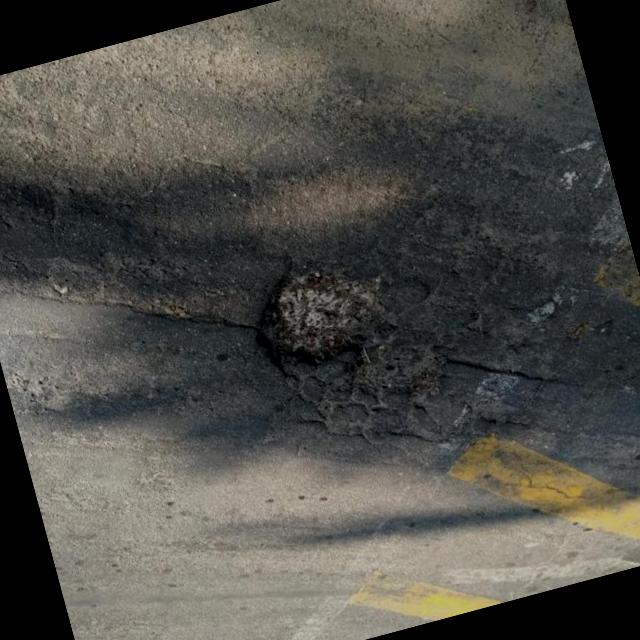pothole: (237, 245, 407, 388), (344, 331, 458, 413), (473, 388, 536, 440)
